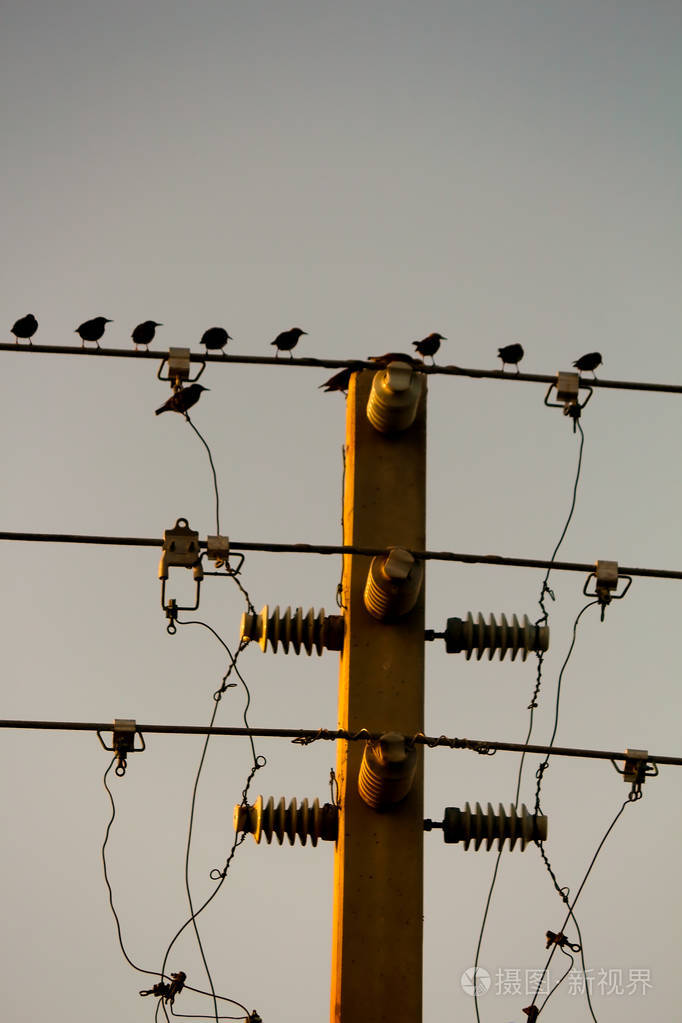insulator: (458, 607, 536, 667), (247, 789, 323, 850), (456, 798, 536, 855), (253, 605, 329, 660)
